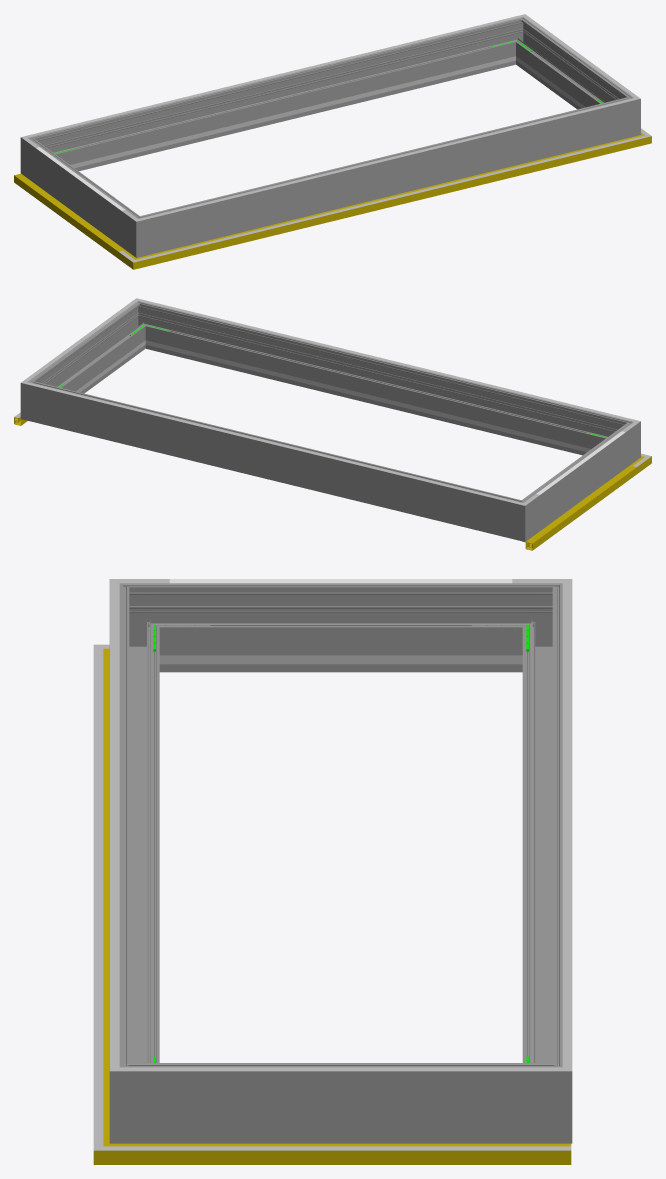
The picture shows the model from 3 angles, top to bottom: view 1: azimuth 30°, elevation 25°; view 2: azimuth 150°, elevation 25°; view 3: azimuth 270°, elevation 25°; orthographic projection. The views are drawn at different scales.
Visible parts, largest first — view 1: 3DGeom-276, 3DGeom-298, 3DGeom-11, 3DGeom-297, 3DGeom-268, 3DGeom-244, 3DGeom-270, 3DGeom-20, 3DGeom-304, 3DGeom-316, 3DGeom-6, 3DGeom-290 (+6 smaller); view 2: 3DGeom-298, 3DGeom-276, 3DGeom-297, 3DGeom-268, 3DGeom-239, 3DGeom-278, 3DGeom-304, 3DGeom-316, 3DGeom-6, 3DGeom-284, 3DGeom-290, 3DGeom-270 (+3 smaller); view 3: 3DGeom-268, 3DGeom-297, 3DGeom-298, 3DGeom-276, 3DGeom-16, 3DGeom-20, 3DGeom-290, 3DGeom-284, 3DGeom-304, 3DGeom-316, 3DGeom-270, 3DGeom-278 (+6 smaller).
Boxes of the visible parts, bbox=[...] form: 3DGeom-276: bbox=[49, 22, 511, 171]; 3DGeom-298: bbox=[157, 101, 614, 251]; 3DGeom-11: bbox=[155, 139, 625, 263]; 3DGeom-297: bbox=[518, 26, 621, 109]; 3DGeom-268: bbox=[35, 146, 129, 246]; 3DGeom-244: bbox=[80, 62, 490, 166]; 3DGeom-270: bbox=[121, 209, 162, 257]; 3DGeom-20: bbox=[157, 141, 625, 256]; 3DGeom-304: bbox=[47, 20, 501, 132]; 3DGeom-316: bbox=[160, 103, 614, 215]; 3DGeom-6: bbox=[14, 173, 124, 258]; 3DGeom-290: bbox=[610, 89, 640, 141]; 3DGeom-298: bbox=[150, 306, 612, 455]; 3DGeom-276: bbox=[46, 385, 503, 535]; 3DGeom-297: bbox=[40, 310, 142, 393]; 3DGeom-268: bbox=[532, 430, 625, 530]; 3DGeom-239: bbox=[170, 346, 581, 450]; 3DGeom-278: bbox=[499, 493, 540, 541]; 3DGeom-304: bbox=[47, 387, 501, 499]; 3DGeom-316: bbox=[160, 304, 614, 416]; 3DGeom-6: bbox=[522, 465, 636, 550]; 3DGeom-284: bbox=[20, 373, 51, 425]; 3DGeom-290: bbox=[125, 301, 159, 350]; 3DGeom-270: bbox=[602, 416, 640, 467]; 3DGeom-268: bbox=[169, 583, 512, 672]; 3DGeom-297: bbox=[169, 1063, 512, 1143]; 3DGeom-298: bbox=[109, 604, 159, 1062]; 3DGeom-276: bbox=[522, 604, 562, 1062]; 3DGeom-16: bbox=[153, 1143, 571, 1164]; 3DGeom-20: bbox=[93, 670, 103, 1125]; 3DGeom-290: bbox=[109, 1046, 169, 1143]; 3DGeom-284: bbox=[512, 1046, 572, 1143]; 3DGeom-304: bbox=[562, 604, 572, 1045]; 3DGeom-316: bbox=[110, 604, 119, 1045]; 3DGeom-270: bbox=[109, 579, 169, 672]; 3DGeom-278: bbox=[512, 583, 562, 672].
Bounding box in the file's own units: 3.05 × 0.2434 × 1.22.
